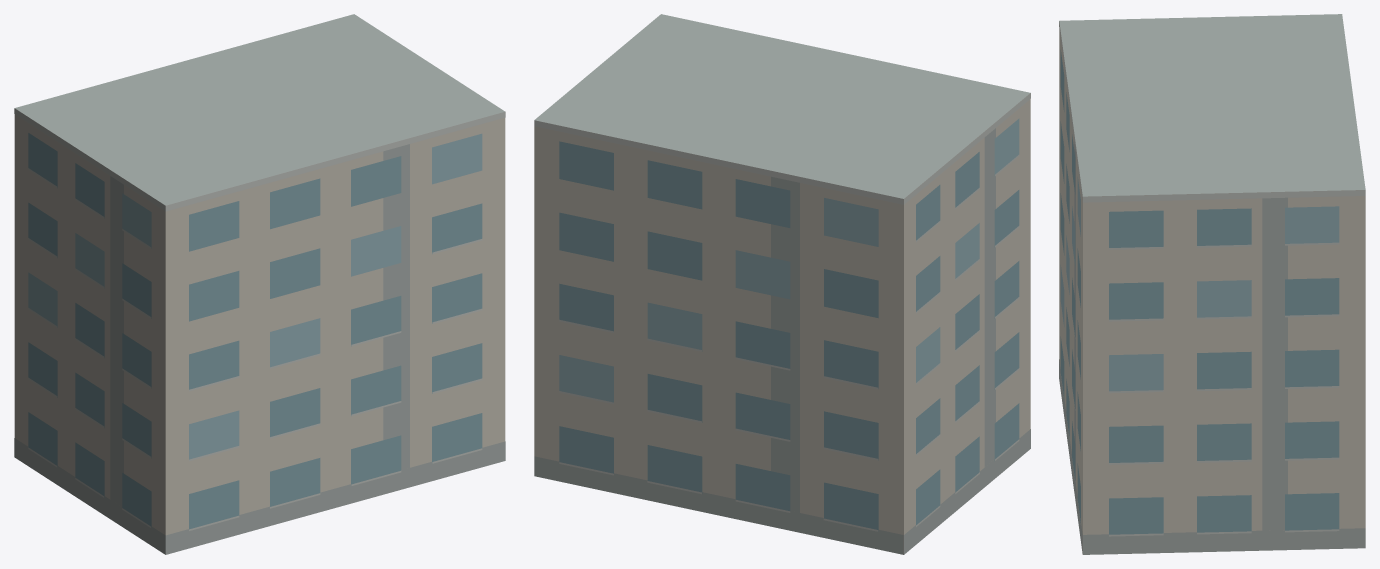
The model's file is survey-upis-32727684.glb.
3 renders of one model, left to right at view 1: azimuth 30°, elevation 25°; view 2: azimuth 150°, elevation 25°; view 3: azimuth 270°, elevation 25°, orthographic. The views are drawn at different scales.
Visible parts, largest first — view 1: survey-upis-32727684.tmp; view 2: survey-upis-32727684.tmp; view 3: survey-upis-32727684.tmp.
Part boxes in pixels (left/top/right/bottom): survey-upis-32727684.tmp: left=14, top=14, right=505, bottom=554; survey-upis-32727684.tmp: left=534, top=14, right=1030, bottom=554; survey-upis-32727684.tmp: left=1059, top=14, right=1365, bottom=554.
Size of the model in its own units: 15.85 by 14.5 by 11.25.
